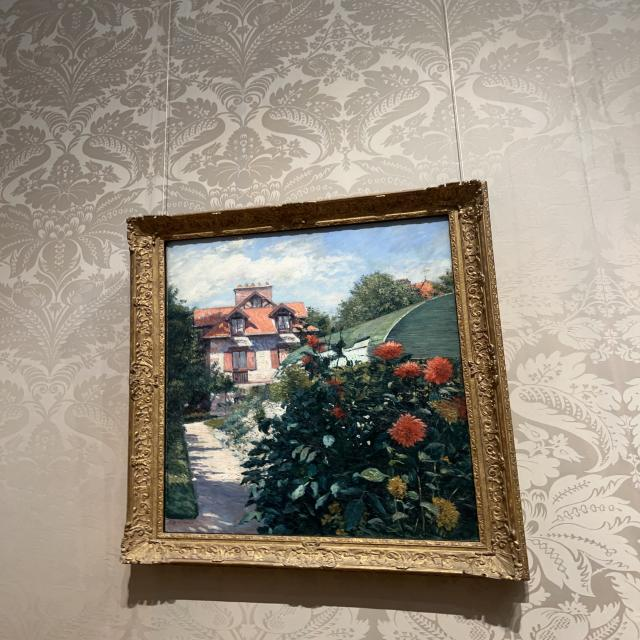summer: (164, 213, 481, 541)
